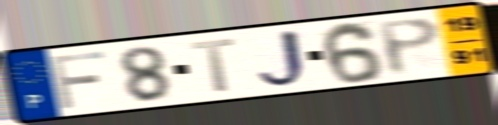6: (317, 19, 387, 85)
8: (114, 44, 173, 103)
F: (47, 49, 109, 111)
J: (253, 27, 314, 90)
P: (373, 15, 444, 78)
T: (188, 36, 239, 95)
